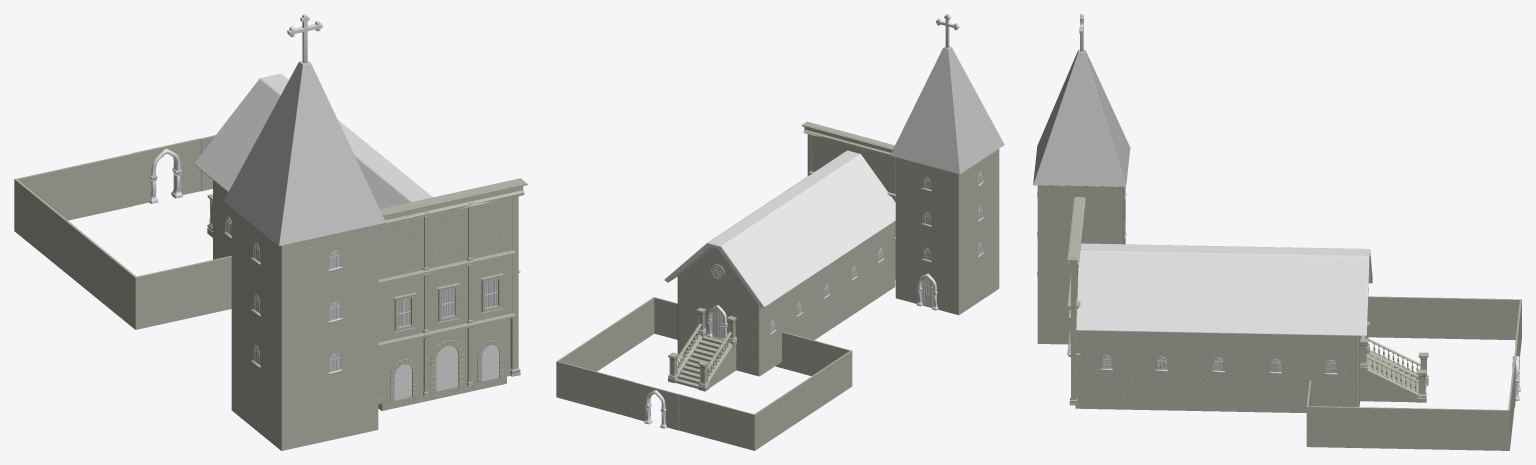
The model's file is ChurchLOD1.fbx.
3 renders of one model, left to right at view 1: azimuth 30°, elevation 25°; view 2: azimuth 150°, elevation 25°; view 3: azimuth 270°, elevation 25°, orthographic. The views are drawn at different scales.
Parts seen in each view (by area): view 1: Cube.1709, Circle.002, Door1.1849, House.002; view 2: House.002, Cube.1709, Door1.1849, Circle.002; view 3: House.002, Cube.1709, Door1.1849, Circle.002.
Part boxes in pixels (x1,y1,x2,y2): Cube.1709: (224, 14, 385, 450); Circle.002: (378, 178, 527, 404); Door1.1849: (14, 135, 231, 329); House.002: (194, 73, 520, 410); House.002: (664, 150, 895, 391); Cube.1709: (890, 14, 1004, 315); Door1.1849: (556, 297, 852, 450); Circle.002: (801, 121, 895, 279); House.002: (1075, 243, 1428, 412); Cube.1709: (1033, 14, 1130, 344); Door1.1849: (1306, 296, 1521, 450); Circle.002: (1067, 197, 1085, 405).
Bounding box in the file's own units: 3516 × 4126 × 5584.
